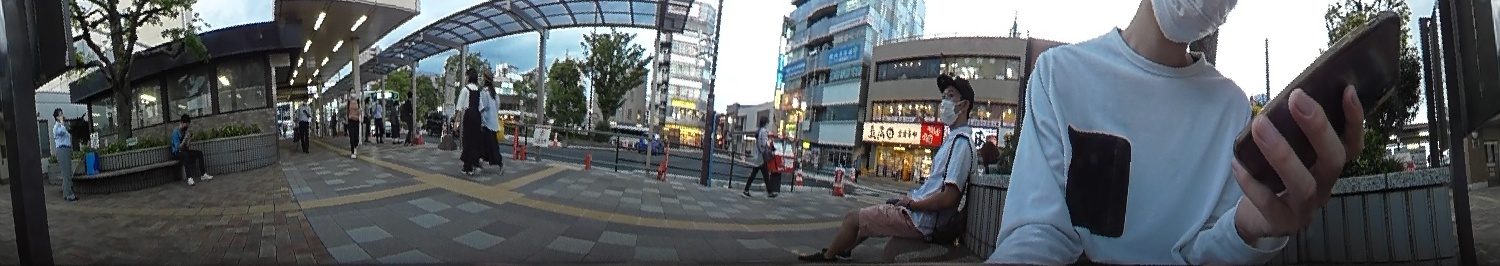difficult_person: (293, 88, 312, 153), (399, 86, 416, 148), (388, 95, 401, 144), (361, 92, 373, 141), (372, 96, 385, 141), (325, 106, 339, 139)
person: (795, 71, 984, 266), (46, 105, 84, 200), (740, 112, 779, 202), (166, 111, 213, 184), (454, 67, 485, 176), (477, 67, 506, 176), (342, 84, 364, 154)
